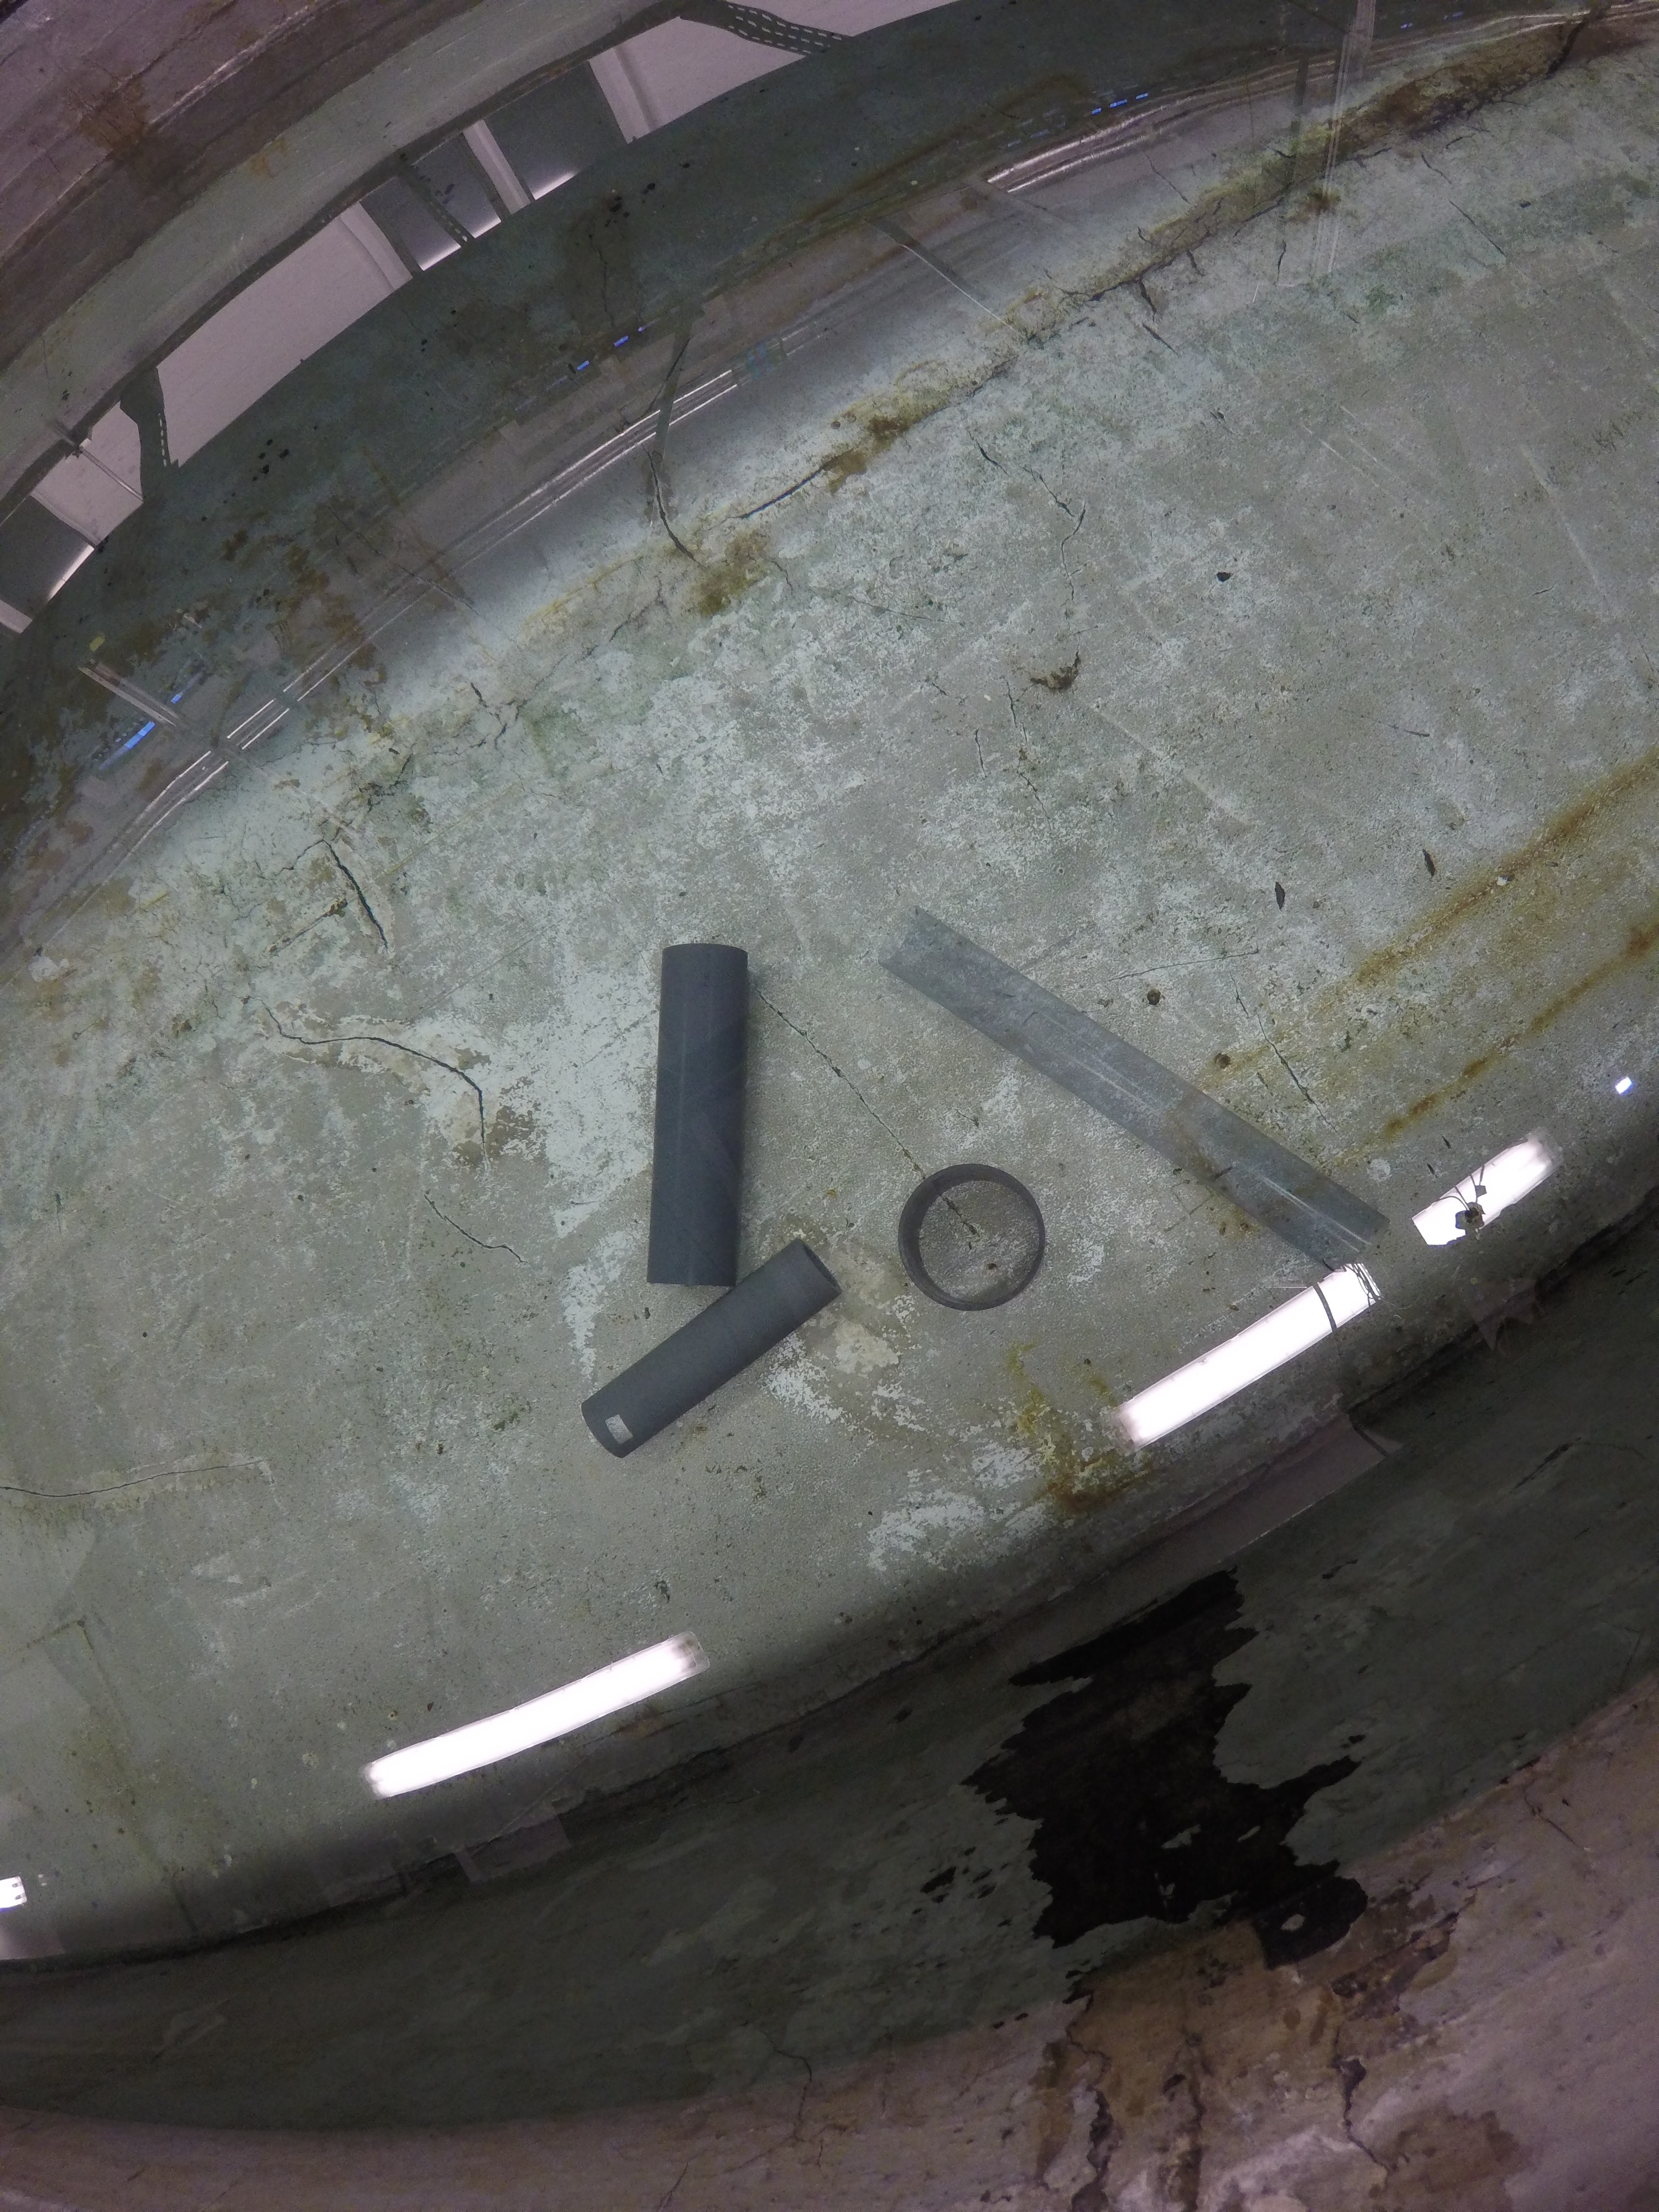pipe: (877, 902, 1392, 1273), (582, 1237, 840, 1460), (645, 941, 749, 1287), (896, 1160, 1046, 1313)
